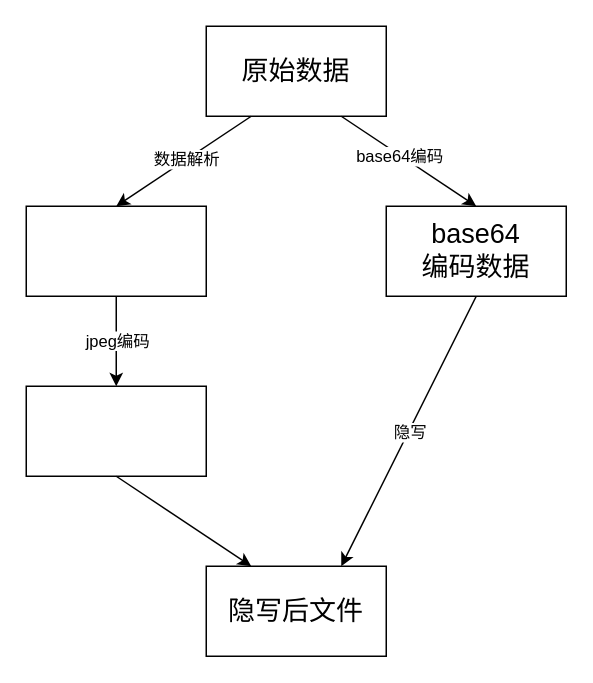
The diagram is 593 pixels wide and 683 high, and some of its shapes have lost their labels. The centre of each missing label's shape, as x and y in pixels:
"JPEG图像" belongs at (x=115, y=430).
"可视化数据" belongs at (x=115, y=250).
